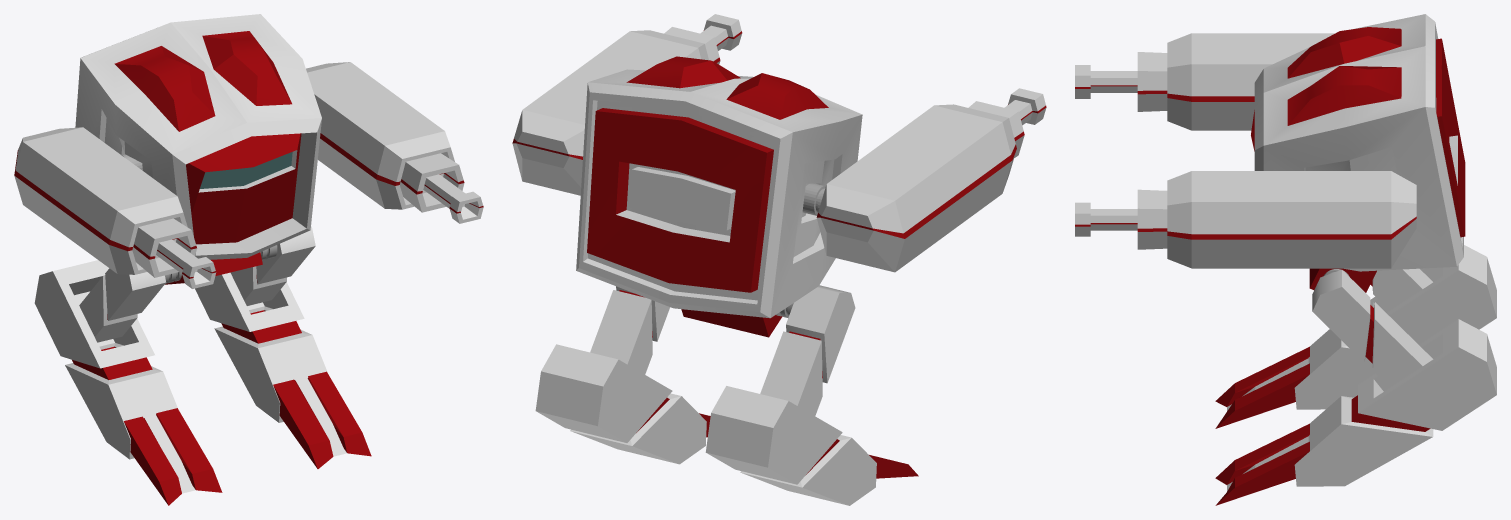
Rendered from low_poly_mecha.fbx.
The picture shows the model from 3 angles, left to right: view 1: azimuth 30°, elevation 25°; view 2: azimuth 150°, elevation 25°; view 3: azimuth 270°, elevation 25°; orthographic projection. The views are drawn at different scales.
Visible parts, largest first — view 1: Cube, Cube.001, Cube.004, Cube.005, Cube.003, Cube.002; view 2: Cube, Cube.001, Cube.004, Cube.003, Cube.002, Cube.005; view 3: Cube.001, Cube, Cube.004, Cube.003, Cube.005, Cube.002.
Boxes of the visible parts, x1,y1,x2,y2 form: Cube: (75,14,321,259); Cube.001: (14,62,483,288); Cube.004: (34,260,327,459); Cube.005: (124,371,371,505); Cube.003: (79,226,315,342); Cube.002: (165,252,262,284); Cube: (576,56,862,318); Cube.001: (512,14,1046,272); Cube.004: (535,344,876,505); Cube.003: (590,285,855,415); Cube.002: (681,309,782,337); Cube.005: (699,413,918,478); Cube.001: (1075,33,1416,268); Cube: (1251,14,1465,271); Cube.004: (1294,245,1496,486); Cube.003: (1312,268,1433,387); Cube.005: (1215,346,1309,505); Cube.002: (1309,268,1376,292).
Size of what is drawn, in the model's own units: 399 by 427 by 400.
